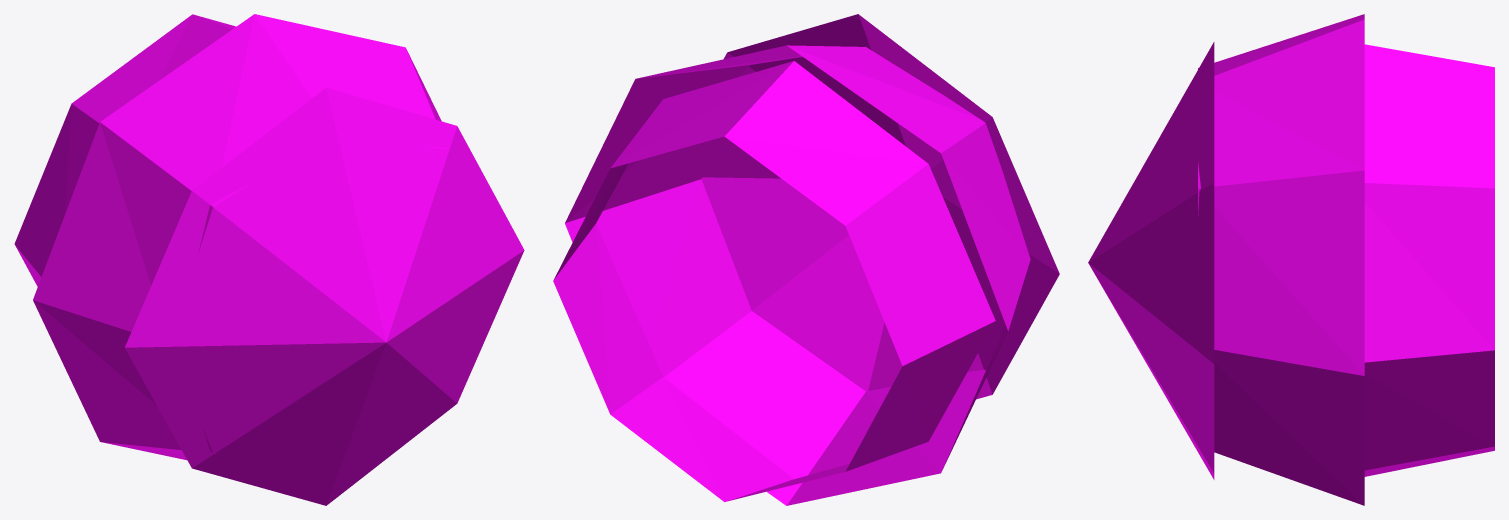
File: depletedbush.obj
3 renders of one model, left to right at view 1: azimuth 30°, elevation 25°; view 2: azimuth 150°, elevation 25°; view 3: azimuth 270°, elevation 25°, orthographic. The views are drawn at different scales.
Visible parts, largest first — view 1: depletedbush; view 2: depletedbush; view 3: depletedbush.
Boxes of the visible parts, x1,y1,x2,y2 form: depletedbush: (14,14,524,505); depletedbush: (553,14,1059,505); depletedbush: (1088,14,1494,505).
Bounding box in the file's own units: 1.32 × 1.31 × 1.
